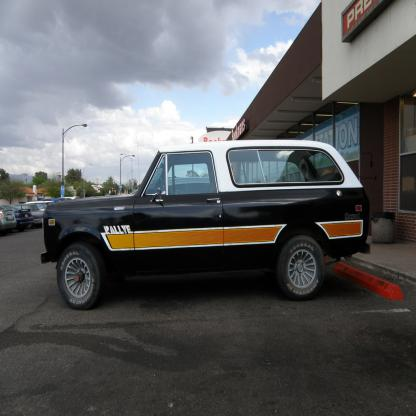Car: (0, 142, 372, 311)
